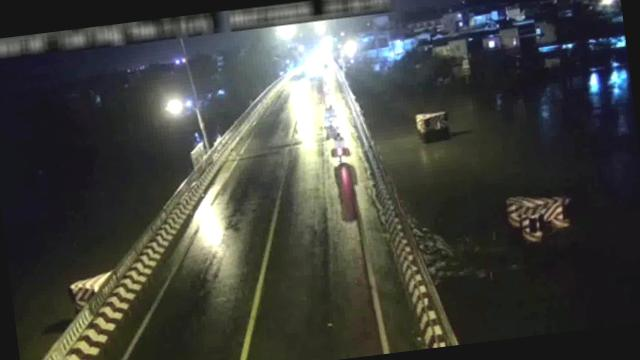Bike: (327, 131, 353, 164), (322, 102, 339, 131)
